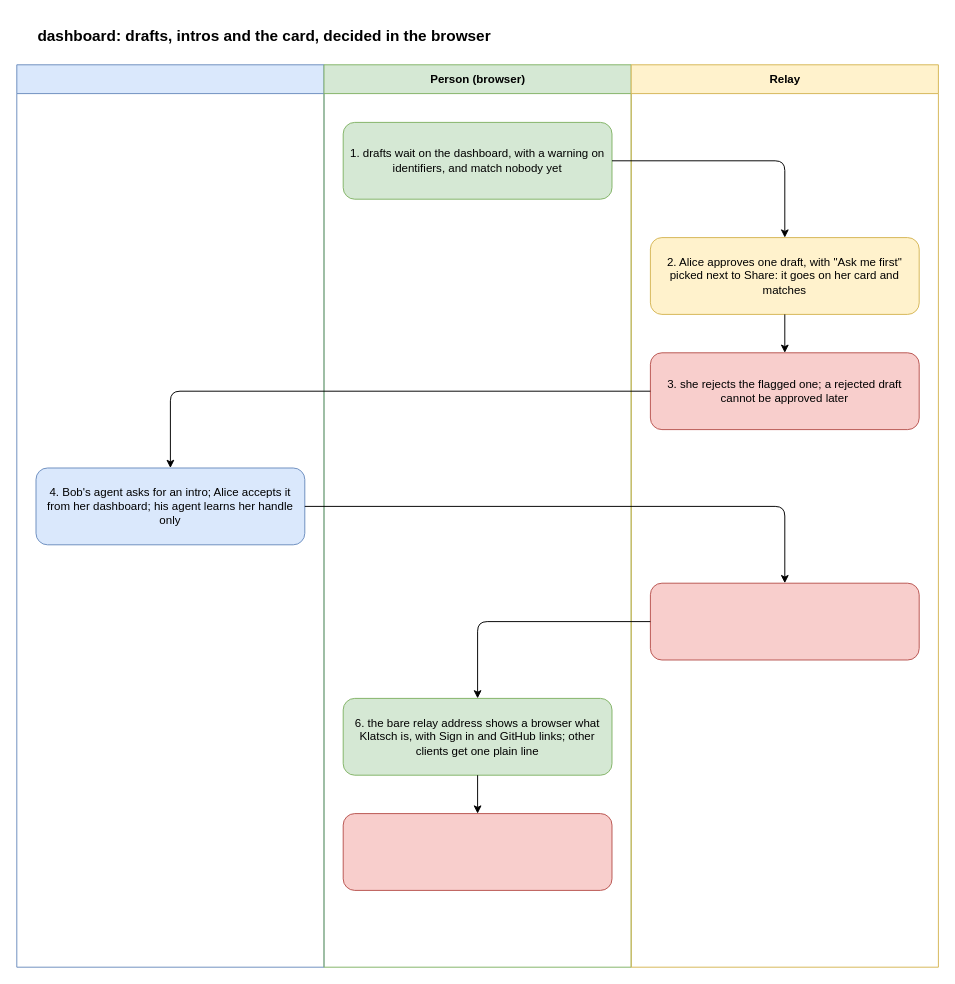
Some shapes in this 955 by 984 pixel diagram are drawn without their labels. The box of each missing label's shape, as (x1, y1, x2, y2) in pixels:
5. Alice retires the sip; it stops matching: (649, 582, 919, 660)
7. Alice signs out; her browser is no longer signed in: (342, 813, 612, 890)
Agent (MCP client): (16, 64, 324, 967)
